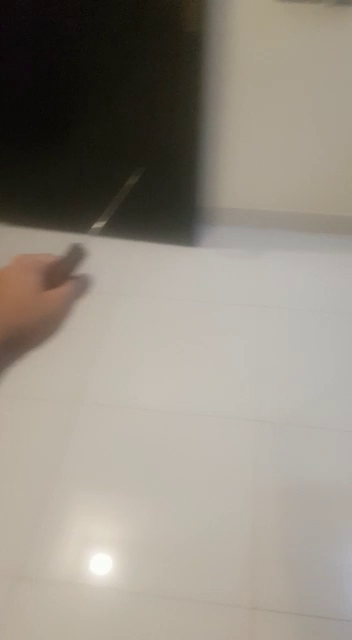knife: (13, 152, 186, 333)
